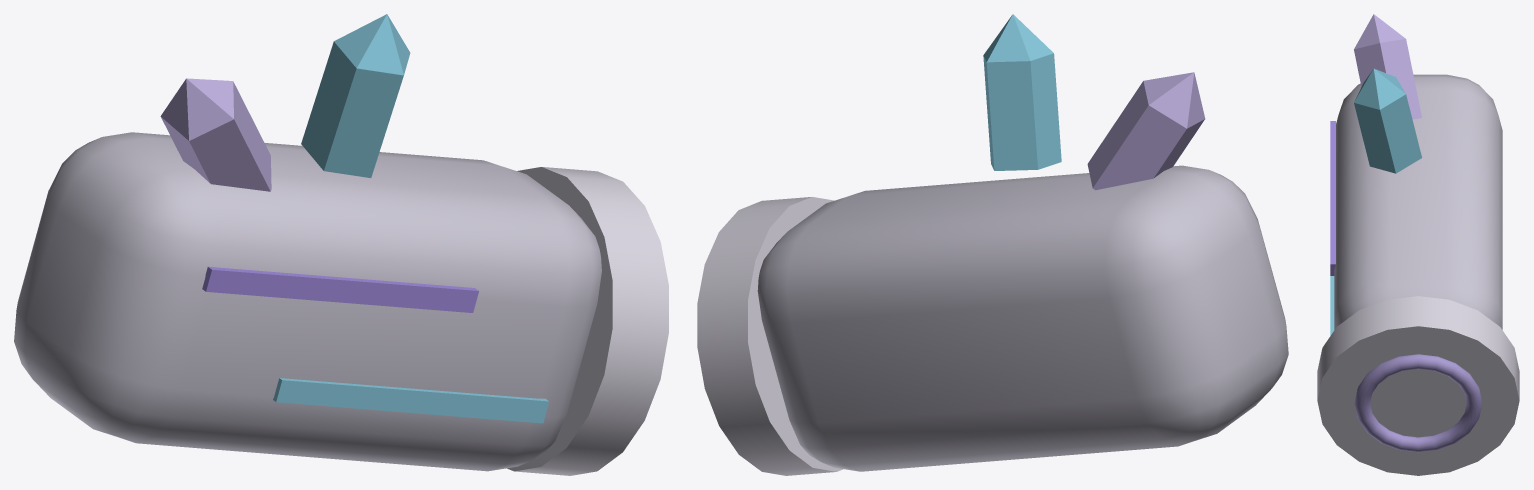
The model's file is mat_glimwood.glb.
The picture shows the model from 3 angles, left to right: view 1: azimuth 30°, elevation 25°; view 2: azimuth 150°, elevation 25°; view 3: azimuth 270°, elevation 25°; orthographic projection. The views are drawn at different scales.
Visible parts, largest first — view 1: _box; view 2: _box; view 3: _box.
Part boxes in pixels (<box>): _box: <box>14,14,668,475</box>; _box: <box>697,14,1288,475</box>; _box: <box>1317,14,1519,475</box>.
Bounding box in the file's own units: 0.7849 × 0.6794 × 0.36.
